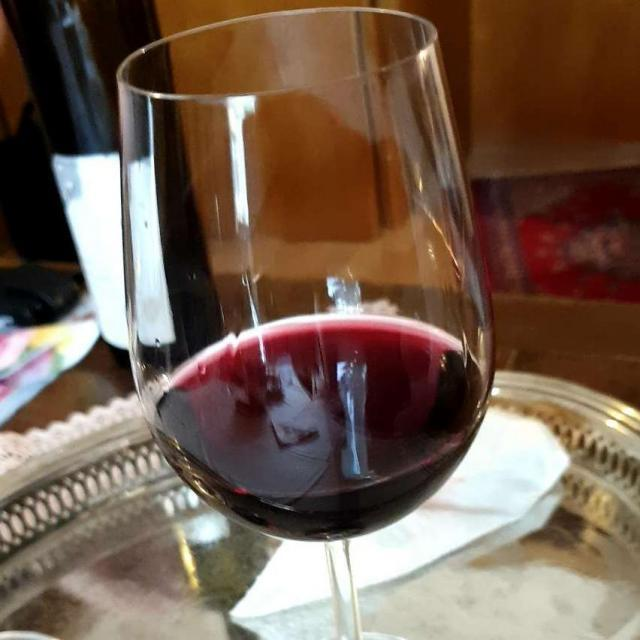wine: (157, 304, 480, 540)
